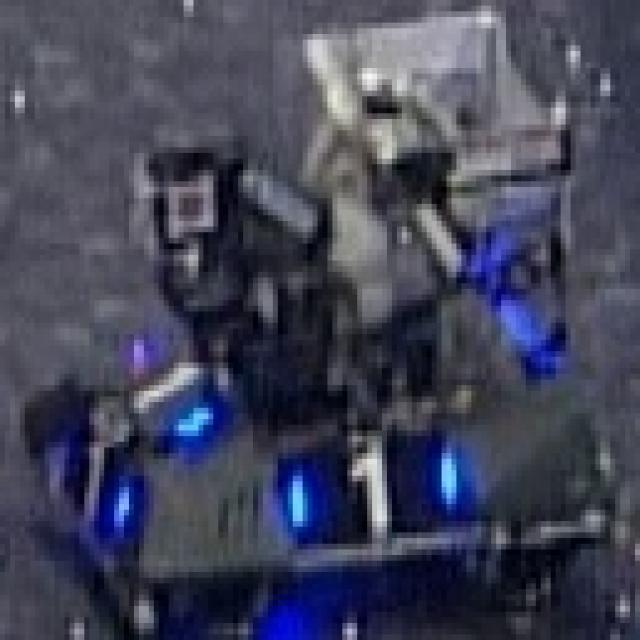B1: (283, 436, 461, 532), (45, 436, 139, 538)
